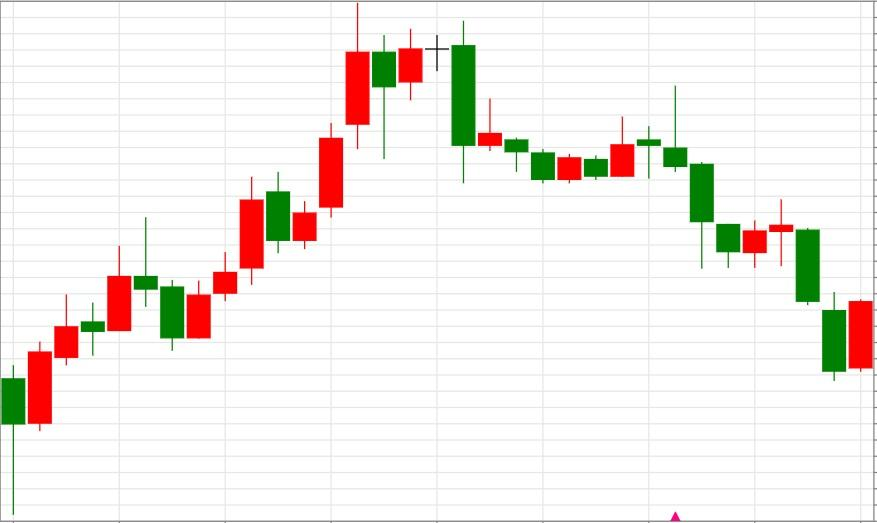evening_star_fall: (160, 3, 475, 352)
